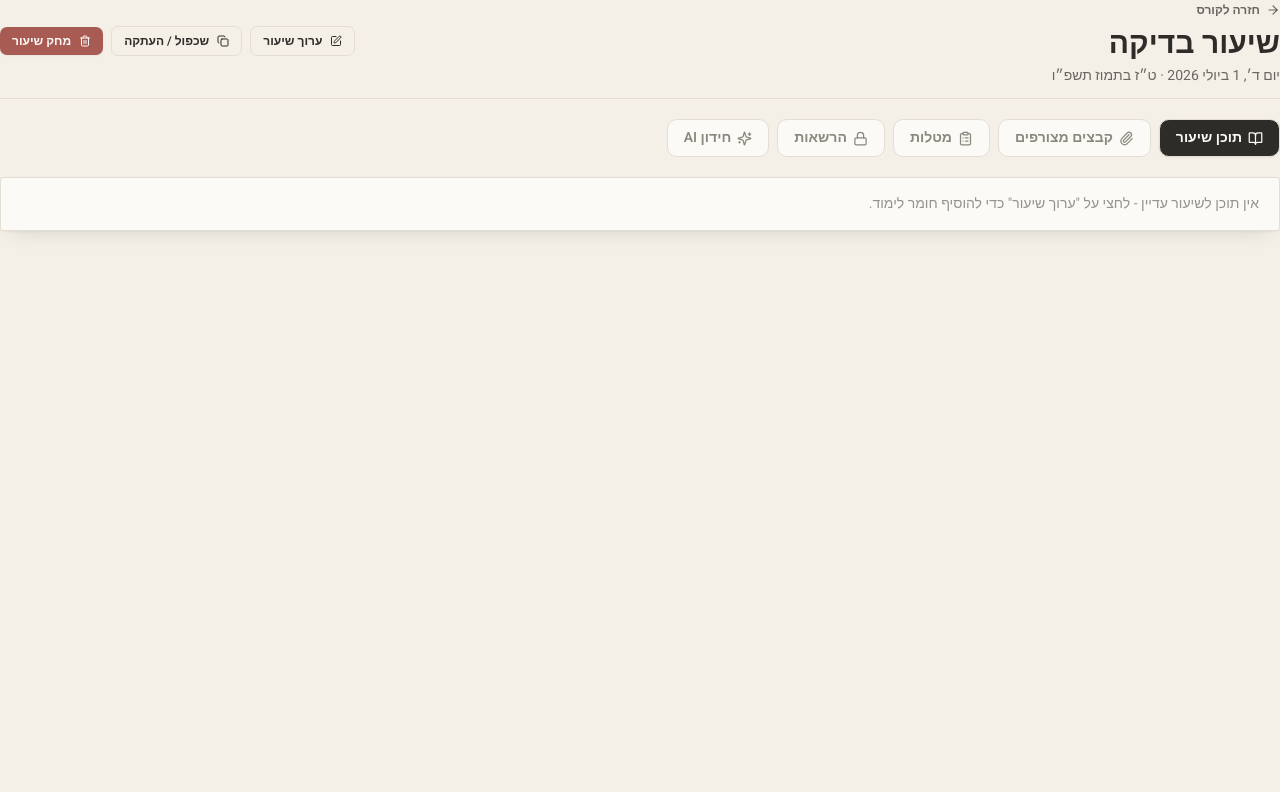
Scenario: TeacherLessonDetailPage › renders the lesson and its submissions
Expected: the heading "שיעור בדיקה" is shown, [1109,22,1279,66]
Click the button "מטלות": x=941, y=138 [893,119,990,157]
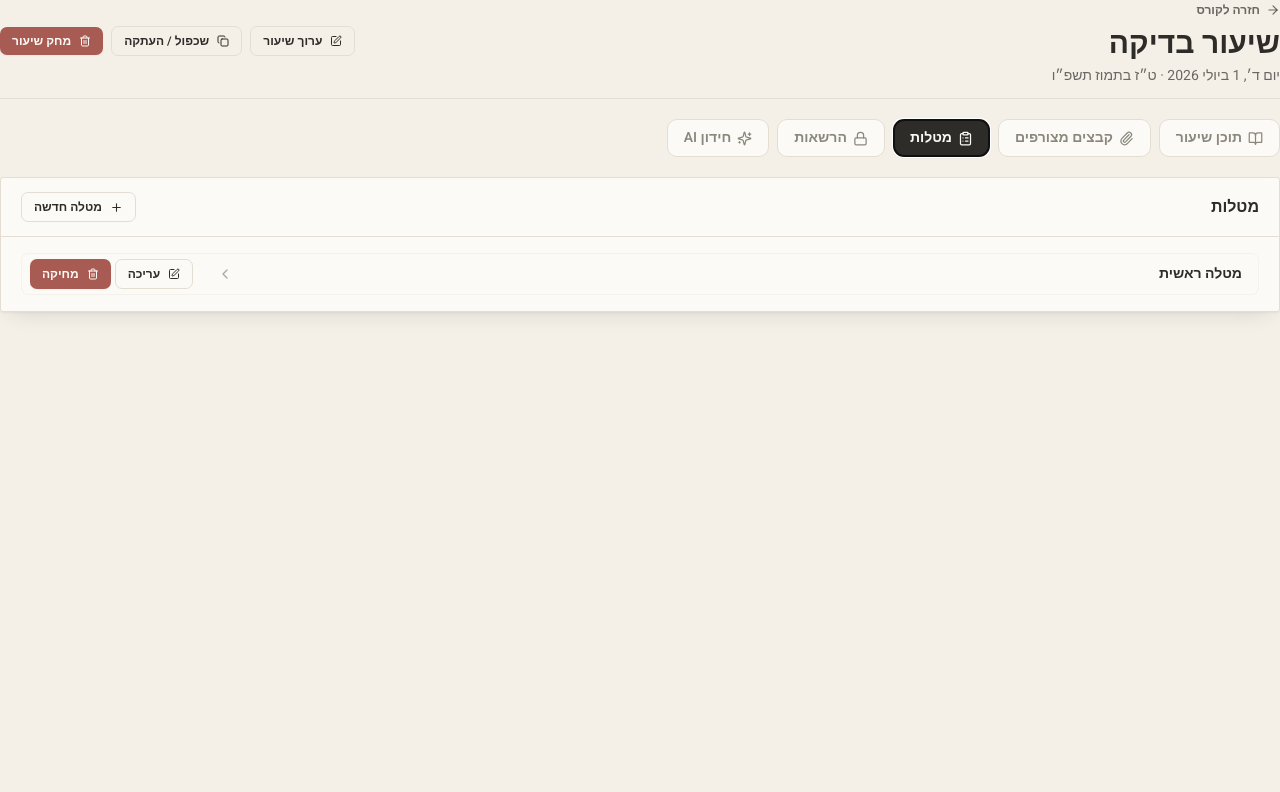
Click the button "מטלה ראשית": x=1200, y=274 [201,254,1258,294]
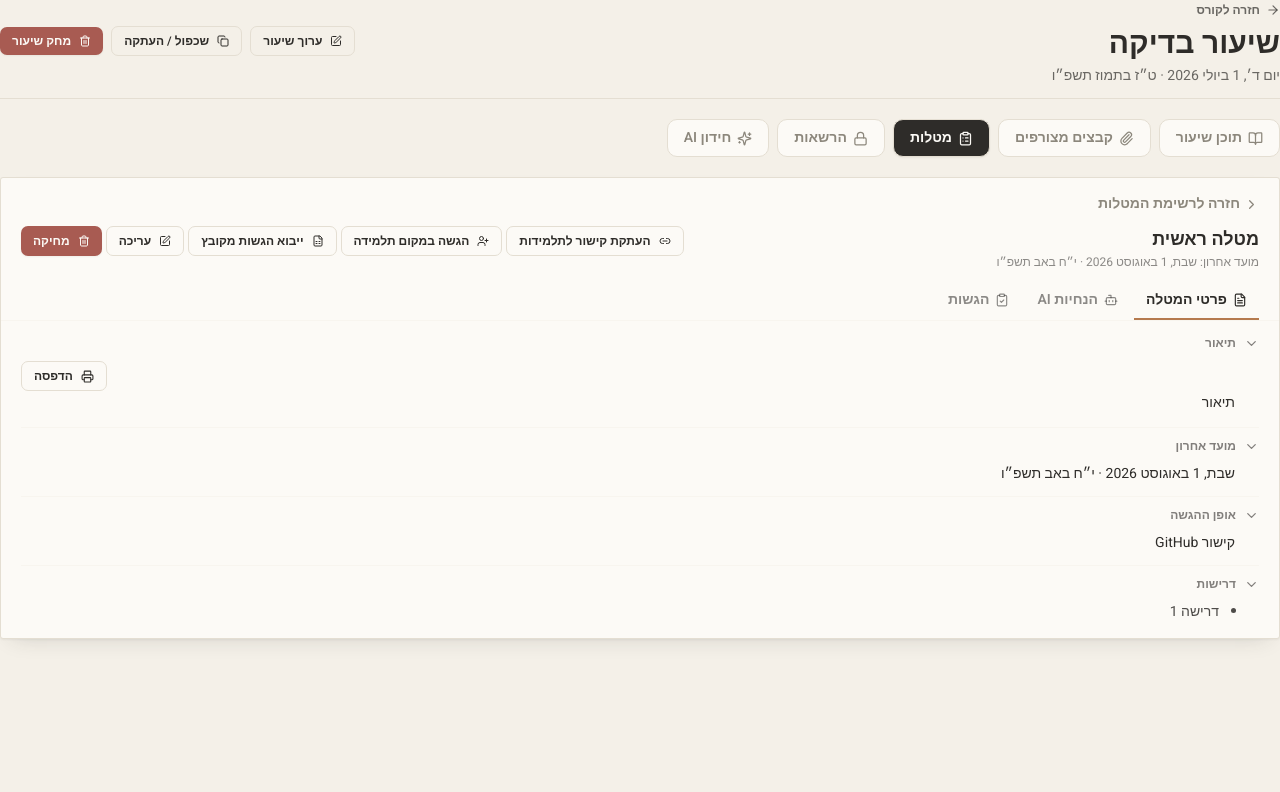
Click the tab "הגשות": x=979, y=301 [936,282,1021,320]
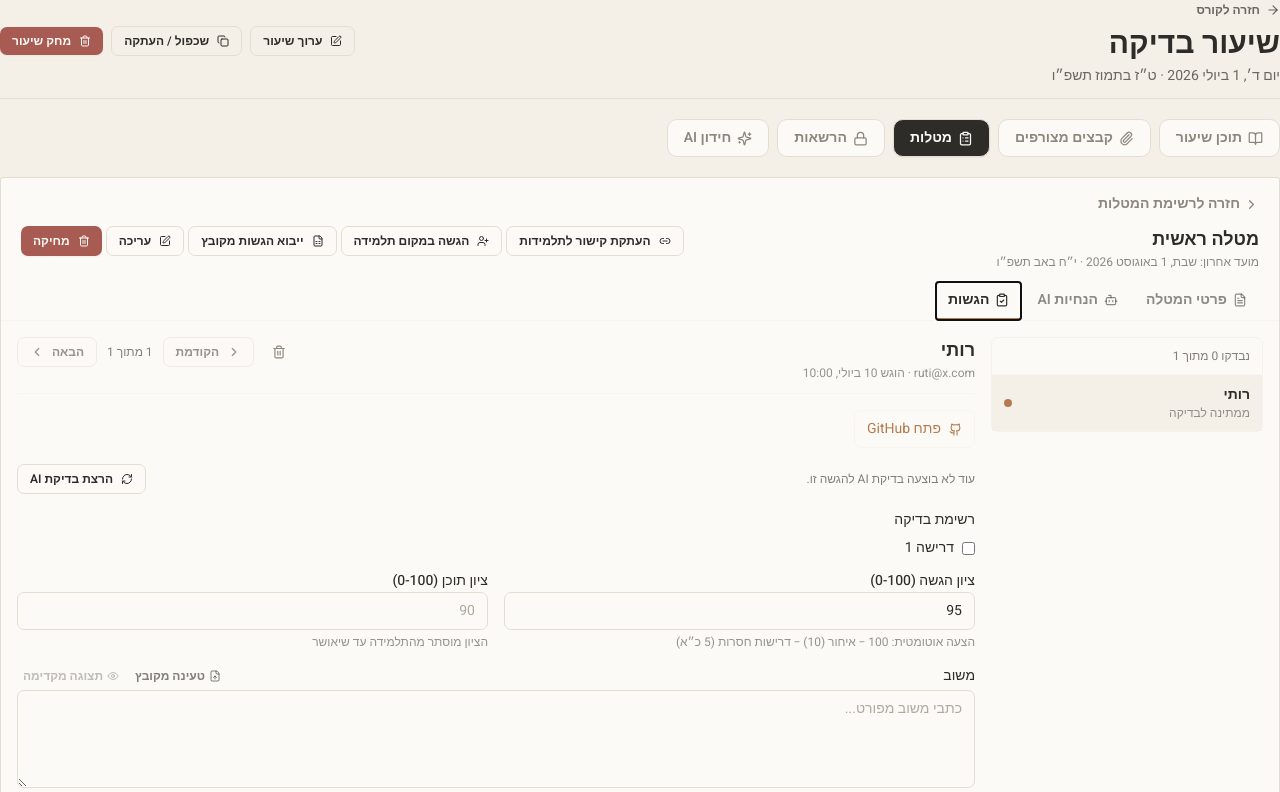
Expected: the heading "רותי" is shown, [941,337,975,364]
Expected: the list named "הגשות" shows "רותי", [1004,375,1250,431]
